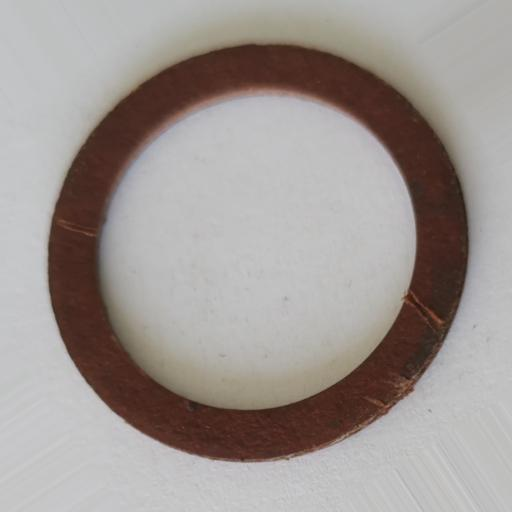defect: (54, 216, 95, 237), (378, 374, 411, 394), (364, 394, 387, 408)
